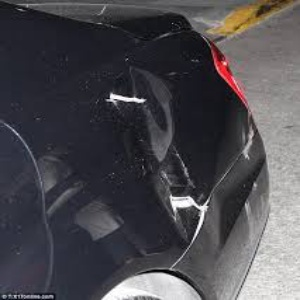bumper_scratch: (67, 59, 257, 255)
